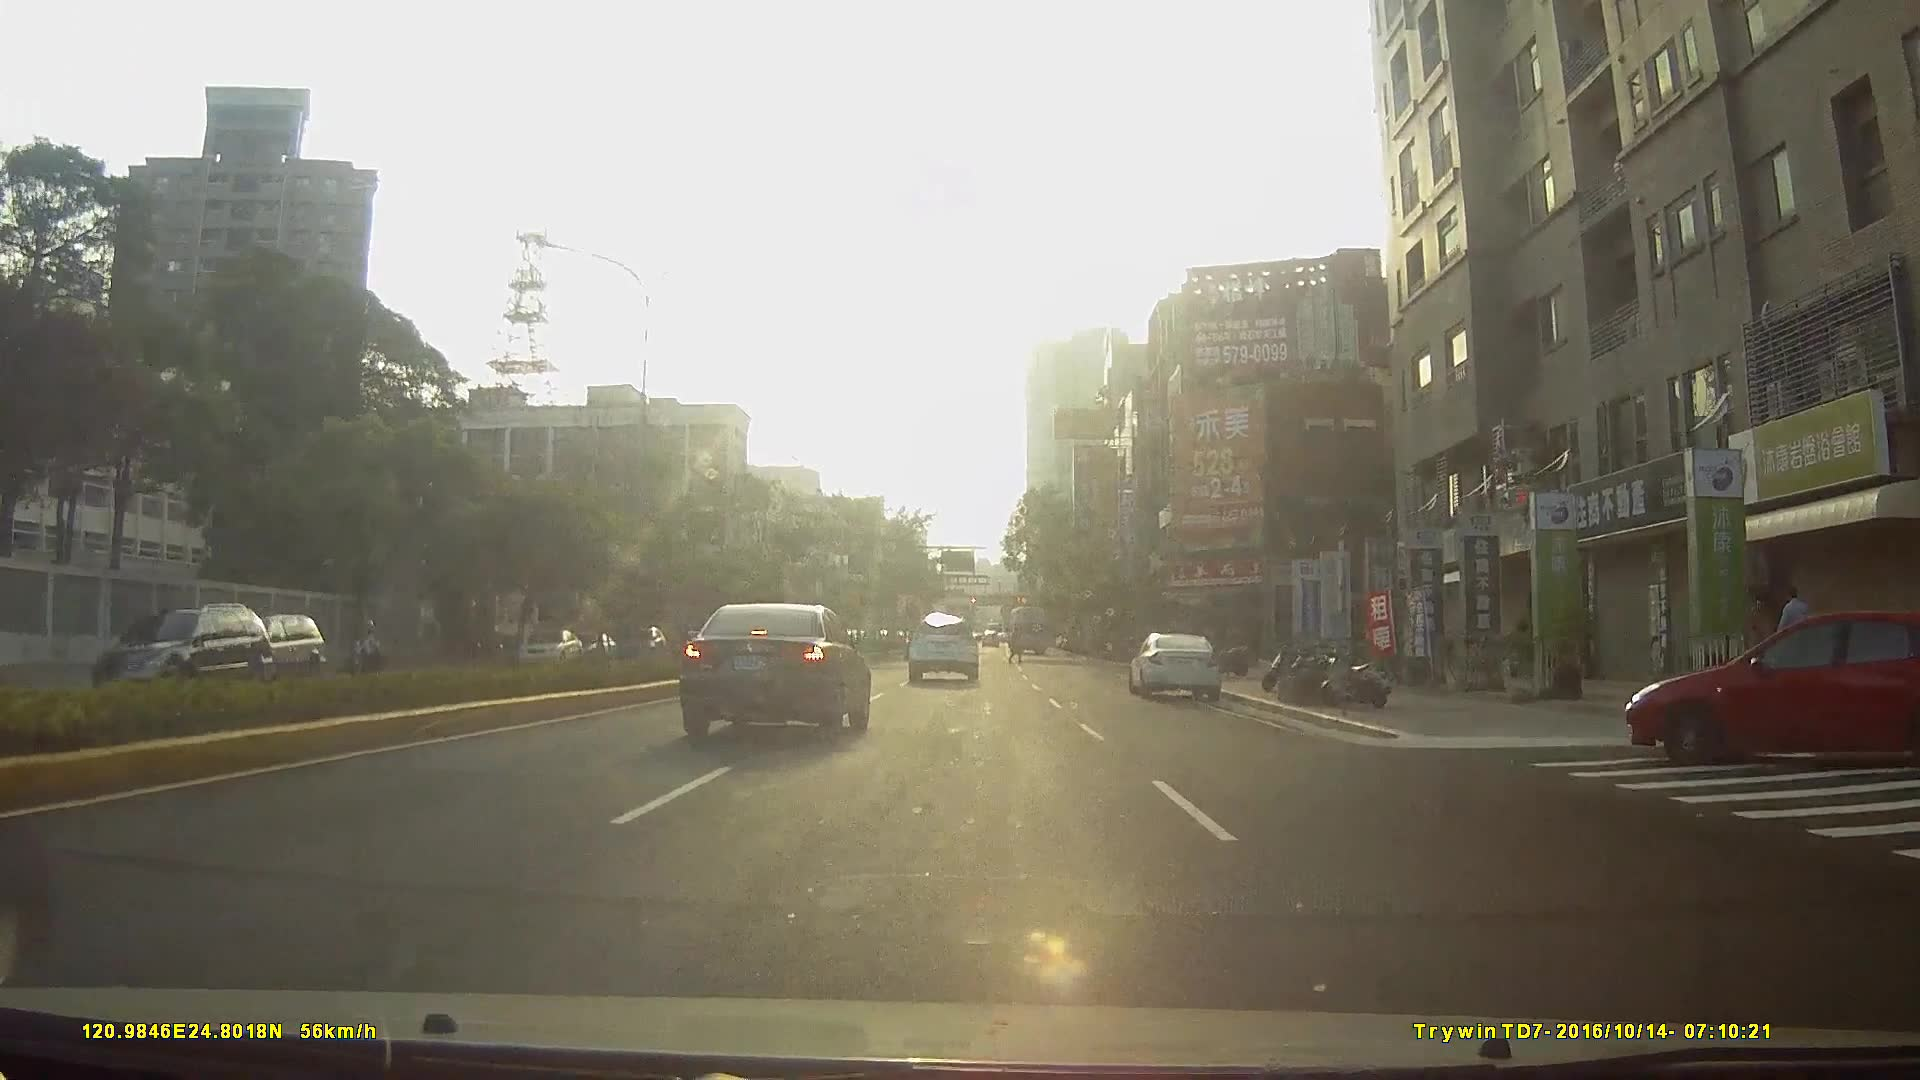pedestrian: (1772, 584, 1820, 686)
rider: (350, 613, 393, 690)
vehicle: (1617, 601, 1920, 779), (682, 599, 875, 738), (60, 599, 252, 693), (224, 608, 331, 682), (1127, 629, 1226, 702), (905, 610, 980, 680), (514, 624, 582, 663), (1006, 601, 1052, 653)
